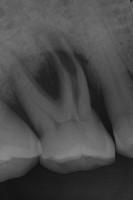Endo-Periodontal Lesion: (33, 52, 62, 99)
